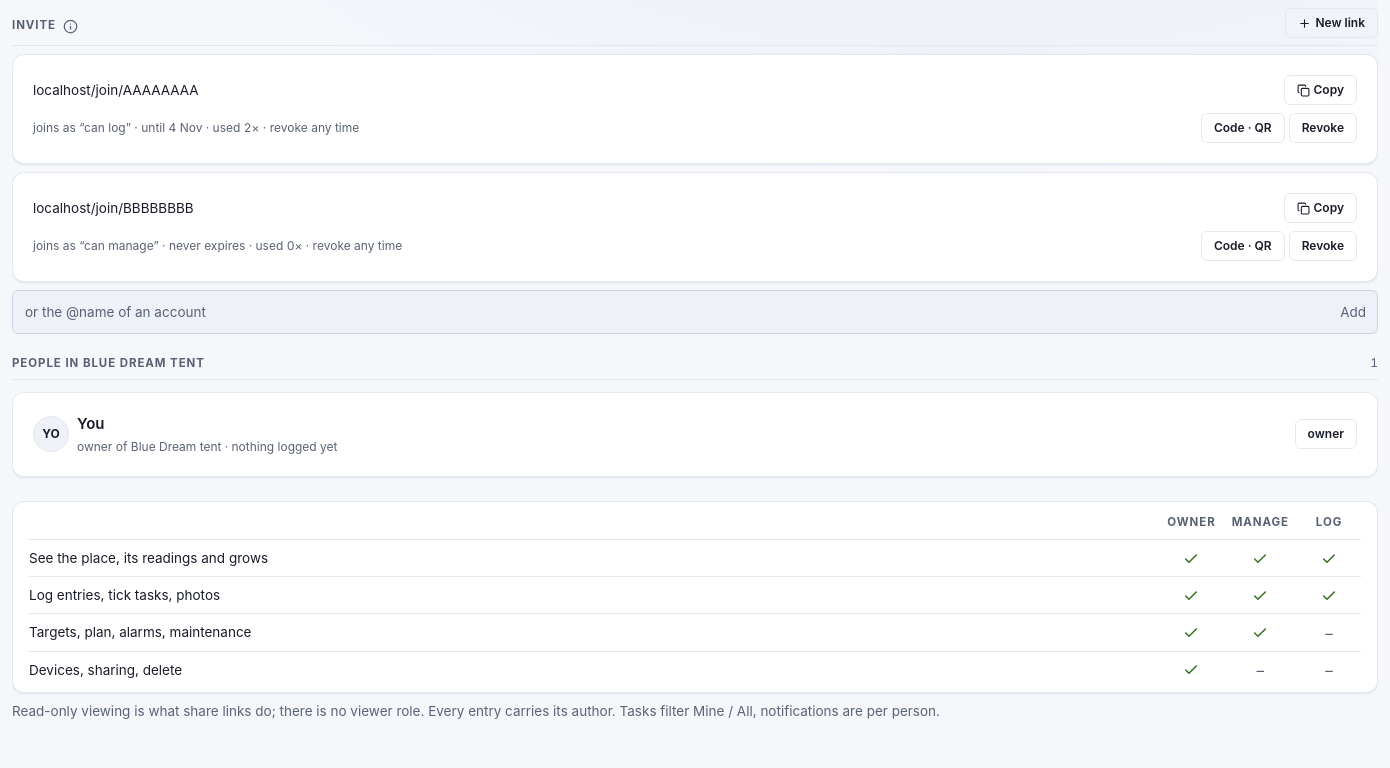
Test: the links a tent has out › revokes one link on its own and leaves the other out
The image size is (1390, 768).
Click the button with aria-label "Revoke the link BBBBBBBB".
click(1323, 246)  # box [1289,231,1357,261]
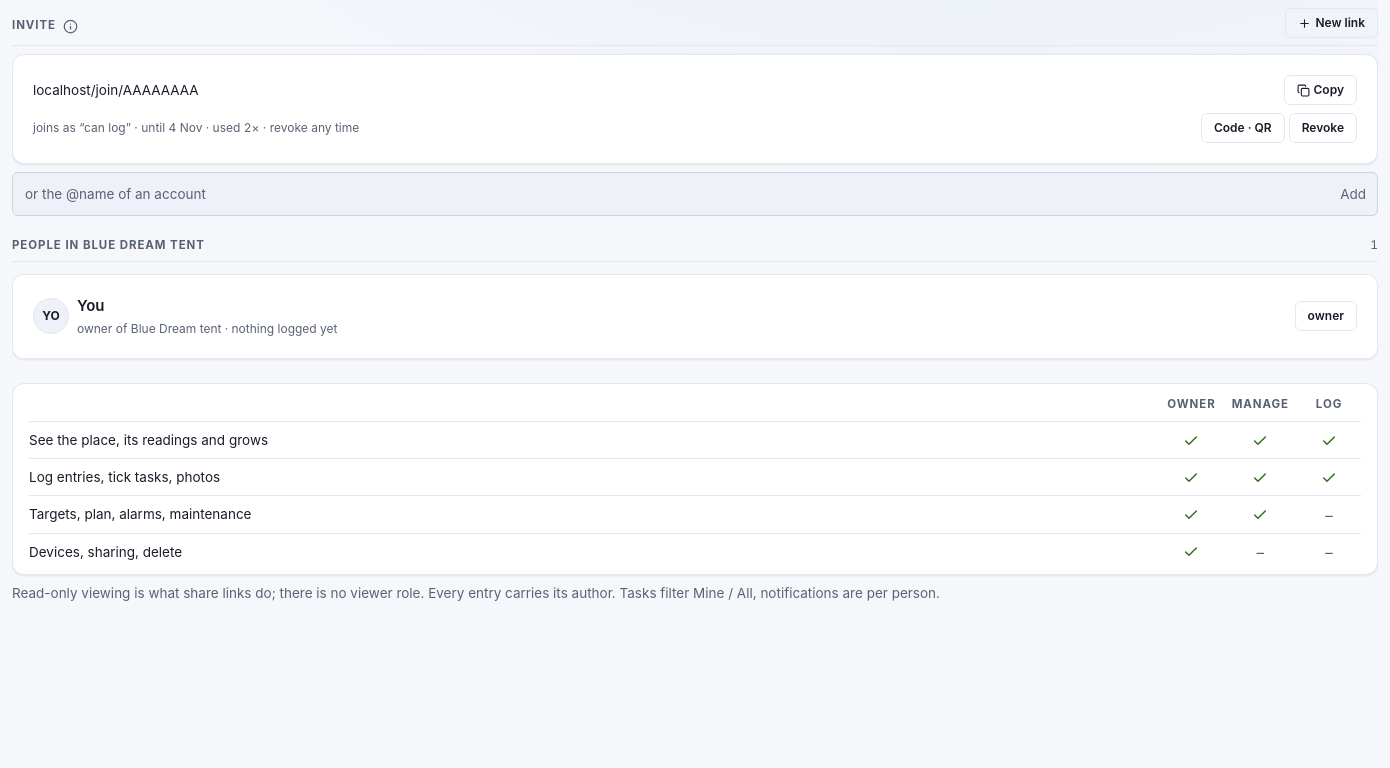
Expected: the text "localhost/join/AAAAAAAA" is shown, [33,82,199,98]
Now the text "BBBBBBBB" is gone
